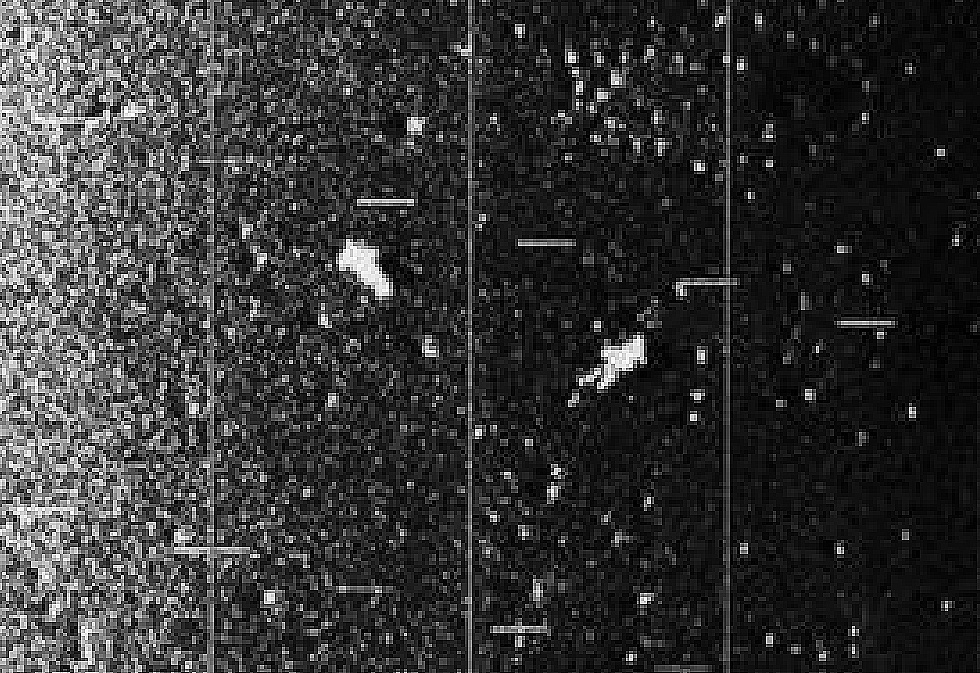human: (321, 229, 398, 303), (572, 329, 650, 392)
